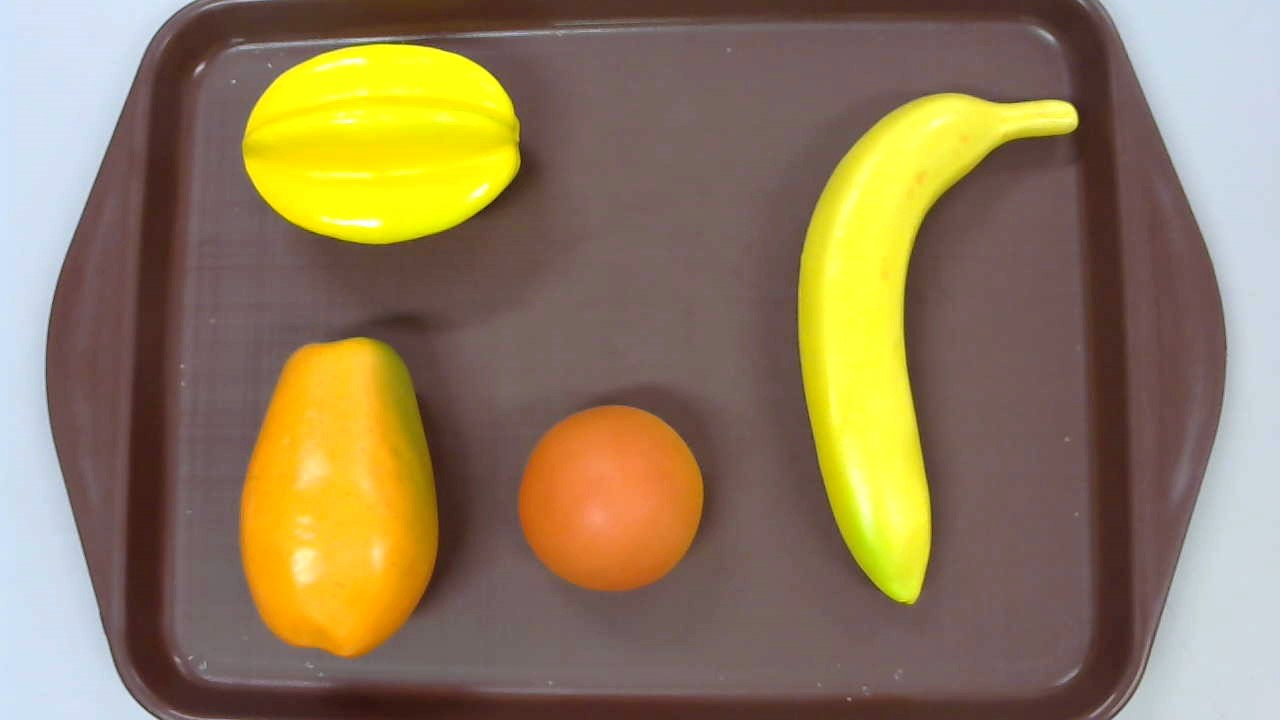banana: (797, 92, 1078, 606)
bun: (518, 403, 703, 591)
papaya: (239, 338, 438, 659)
star fruit: (241, 44, 521, 246)
